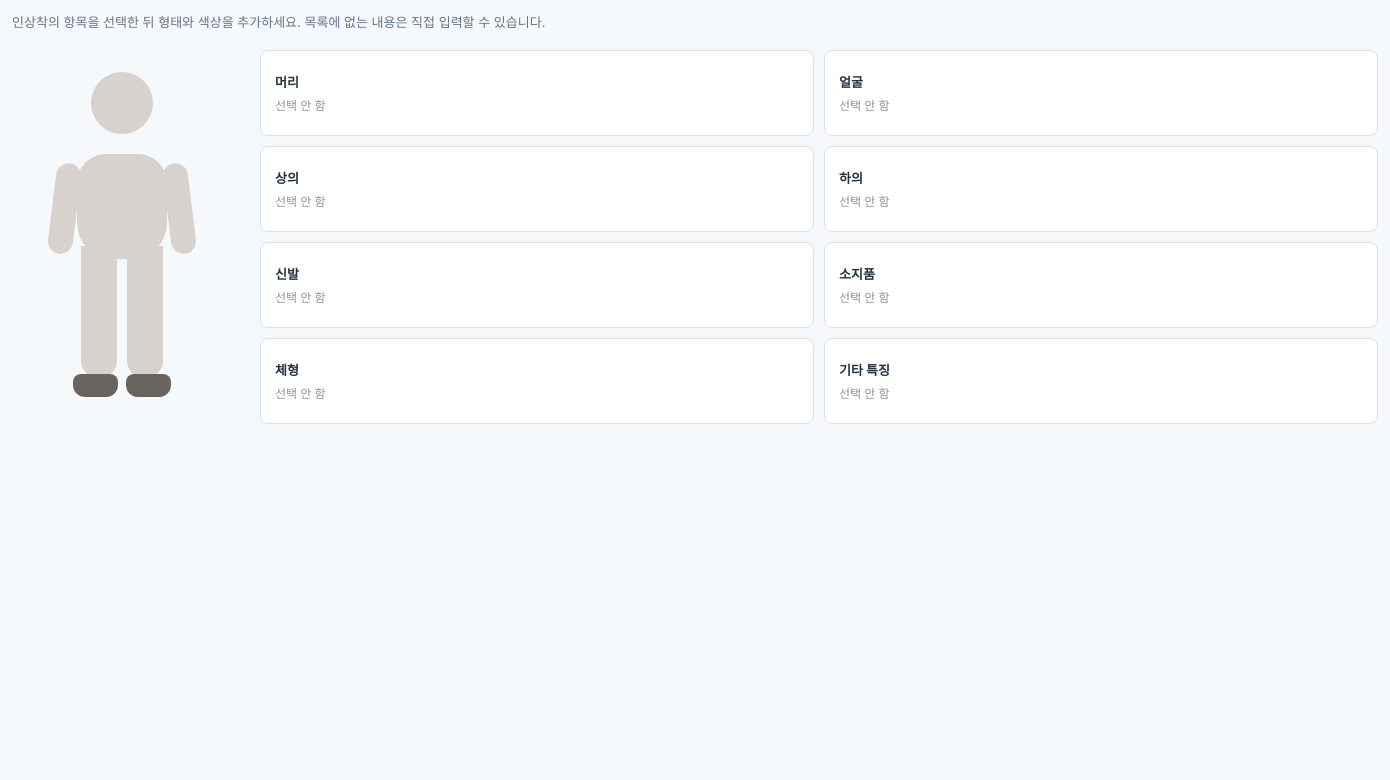
Test: AppearancePicker › 입력 중인 공백은 model echo로 정규화하지 않는다
Click the button "머리 선택 안 함": x=300, y=105 260,50 -> 814,136
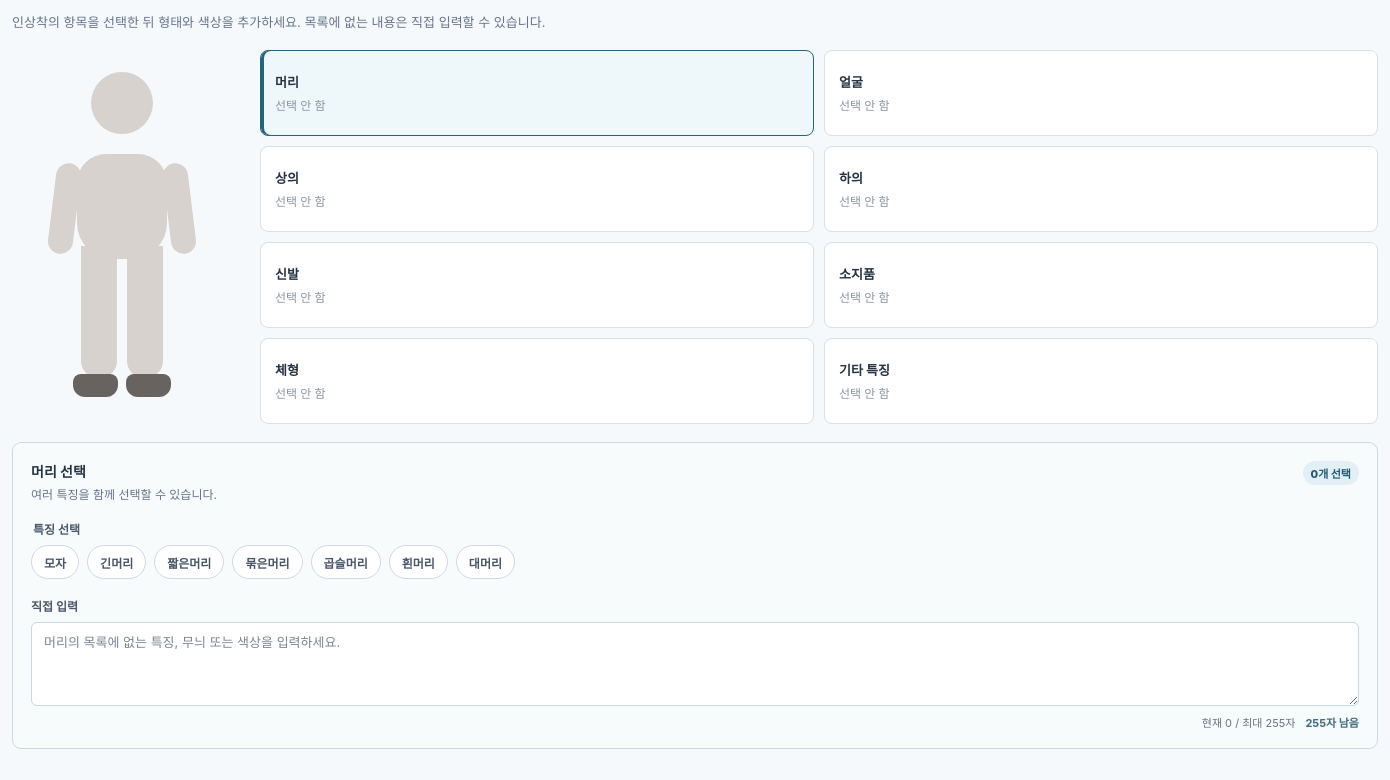
In the text box labelled "직접 입력": x=695, y=664 31,622 -> 1359,706, type "검은 머리 "
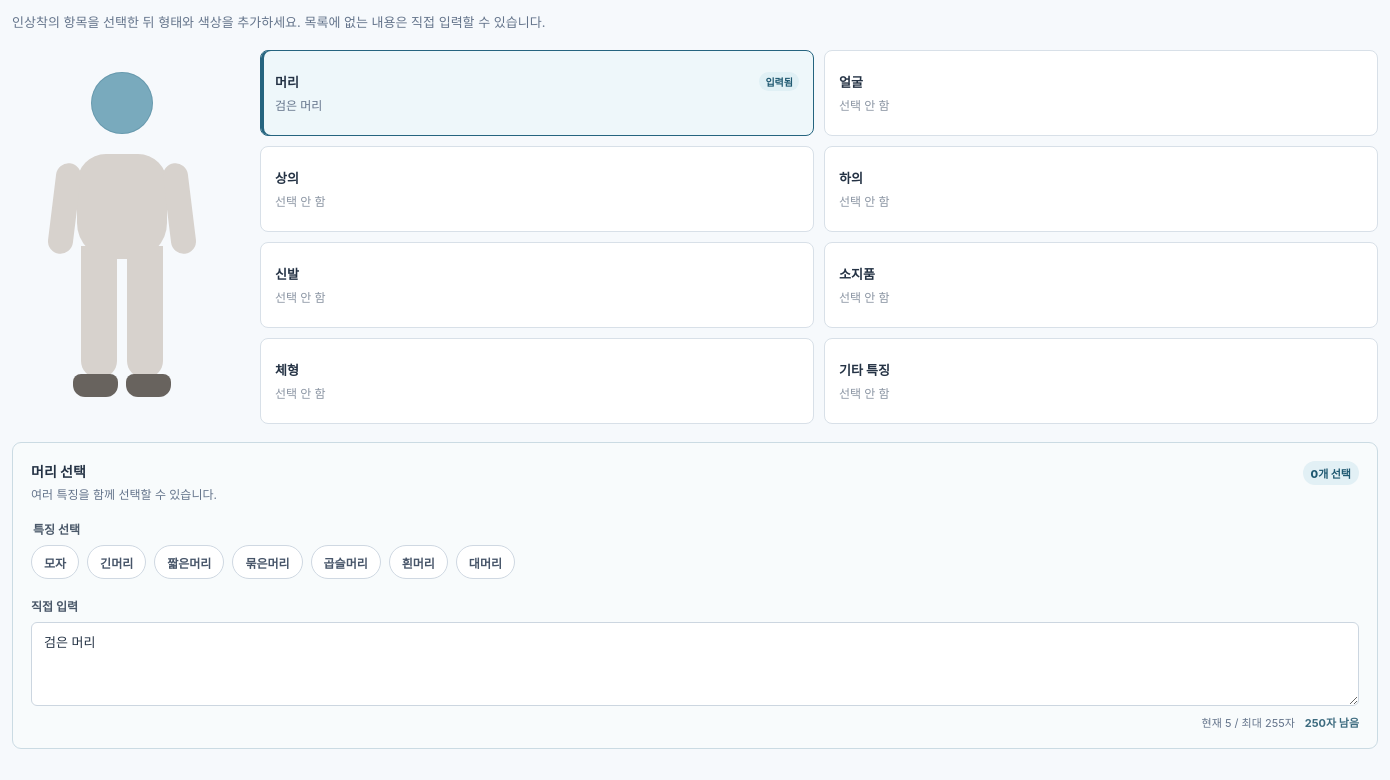
Now the text "검은 머리" is shown, box 275,98 -> 322,113
